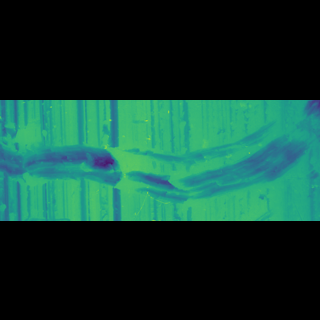Loch: (0, 141, 316, 178), (290, 136, 319, 147), (249, 176, 277, 183)
